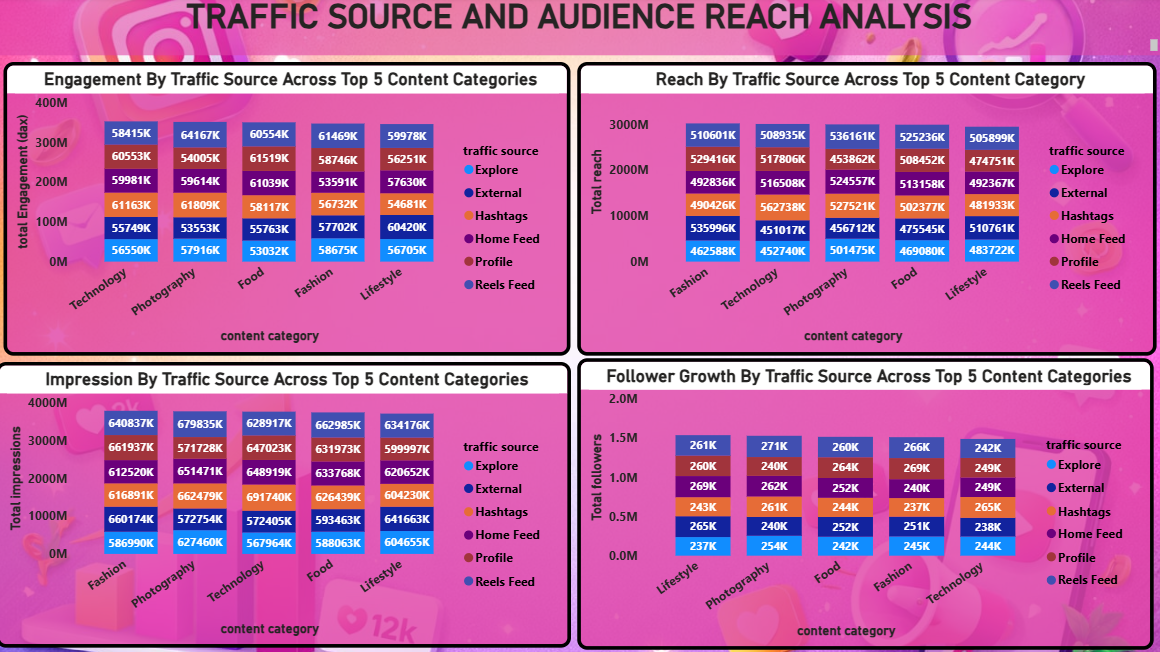

The dashboard page shown, as its layout file describes it:
{"tool":"powerbi","page":{"name":"Page 5","canvas":[1280,720],"ordinal":4},"visuals":[{"type":"textbox","title":"TRAFFIC SOURCE AND AUDIENCE REACH ANALYSIS","box":[0,0,1280,63.9],"z":0},{"type":"columnChart","title":"Engagement By  Traffic Source Across Top 5 Content Categories","fields":{"Series":["Instagram_Analytics.traffic source"],"Y":["DAX.Engagement Rate"],"Category":["Top 5 Content Categories.content category"]},"box":[8.4,71.2,622.5,322.1],"z":1000},{"type":"columnChart","title":"Reach  By Traffic Source Across Top 5 Content Category ","fields":{"Series":["Instagram_Analytics.traffic source"],"Category":["Top 5 Content Categories.content category"],"Y":["DAX.Total reach(m)"]},"box":[638.2,71.2,635.8,322.1],"z":2000},{"type":"columnChart","title":"Impression  By Traffic Source Across Top 5 Content Categories","fields":{"Series":["Instagram_Analytics.traffic source"],"Y":["DAX.Total impressions (m)"],"Category":["Top 5 Content Categories.content category"]},"box":[0,400.5,631,313.7],"z":3000},{"type":"columnChart","title":"Follower Growth By  Traffic Source Across Top 5 Content Categories","fields":{"Series":["Instagram_Analytics.traffic source"],"Category":["Top 5 Content Categories.content category"],"Y":["DAX.Total followers(m)"]},"box":[640.6,400.3,633.4,319.7],"z":4000}]}

Visuals, with their boxes in screenshot pixels (x1, y1, x2, y2), scaled from the page's 1280x720 canvas onto the 1160x652 screenshot:
"TRAFFIC SOURCE AND AUDIENCE REACH ANALYSIS" textbox: [0,0,1159,58]
"Engagement By  Traffic Source Across Top 5 Content Categories" columnChart: [8,64,572,356]
"Reach  By Traffic Source Across Top 5 Content Category " columnChart: [578,64,1155,356]
"Impression  By Traffic Source Across Top 5 Content Categories" columnChart: [0,363,572,647]
"Follower Growth By  Traffic Source Across Top 5 Content Categories" columnChart: [581,362,1155,651]
